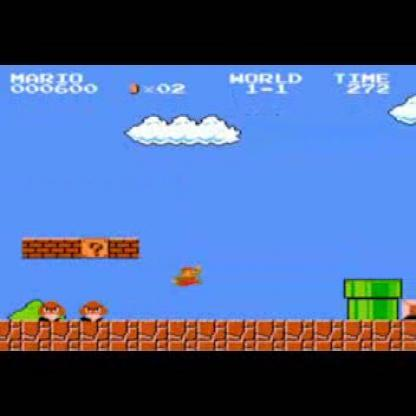Goomba: (82, 300, 109, 322), (40, 302, 65, 325)
